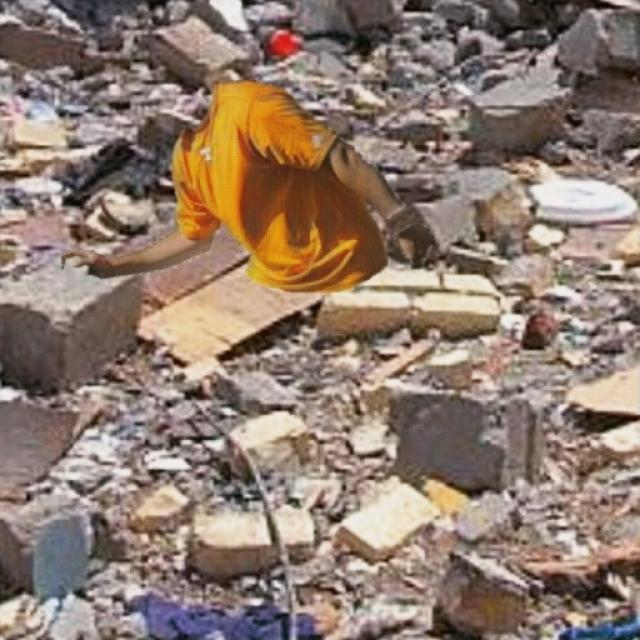Person in Rubble: (61, 80, 432, 291)
